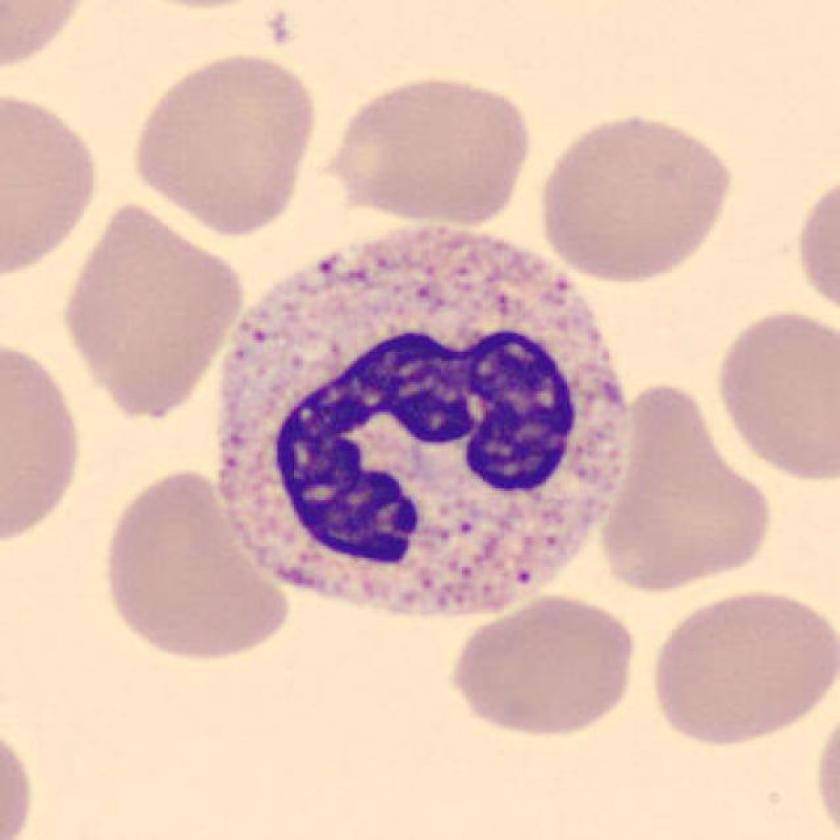neutrophil: (215, 230, 627, 616)
